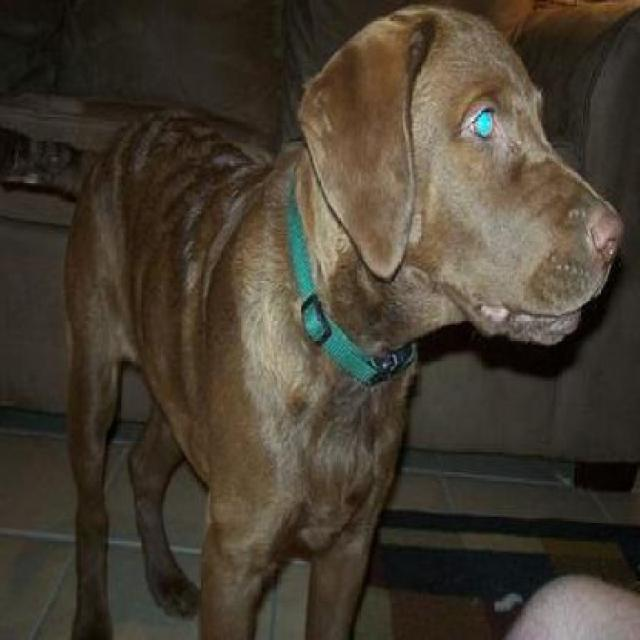Dog: (63, 0, 630, 638)
